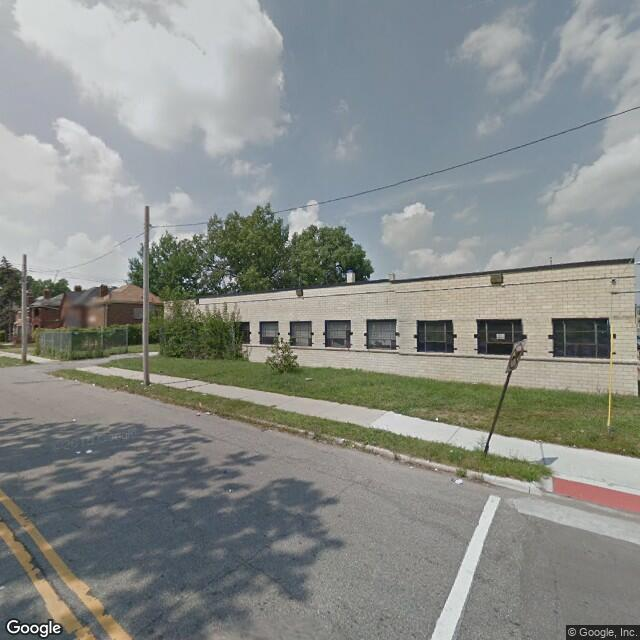litter: (452, 471, 467, 485), (193, 408, 212, 415), (136, 380, 151, 388), (301, 373, 315, 381), (88, 380, 98, 388), (406, 464, 418, 470), (432, 414, 440, 421)
